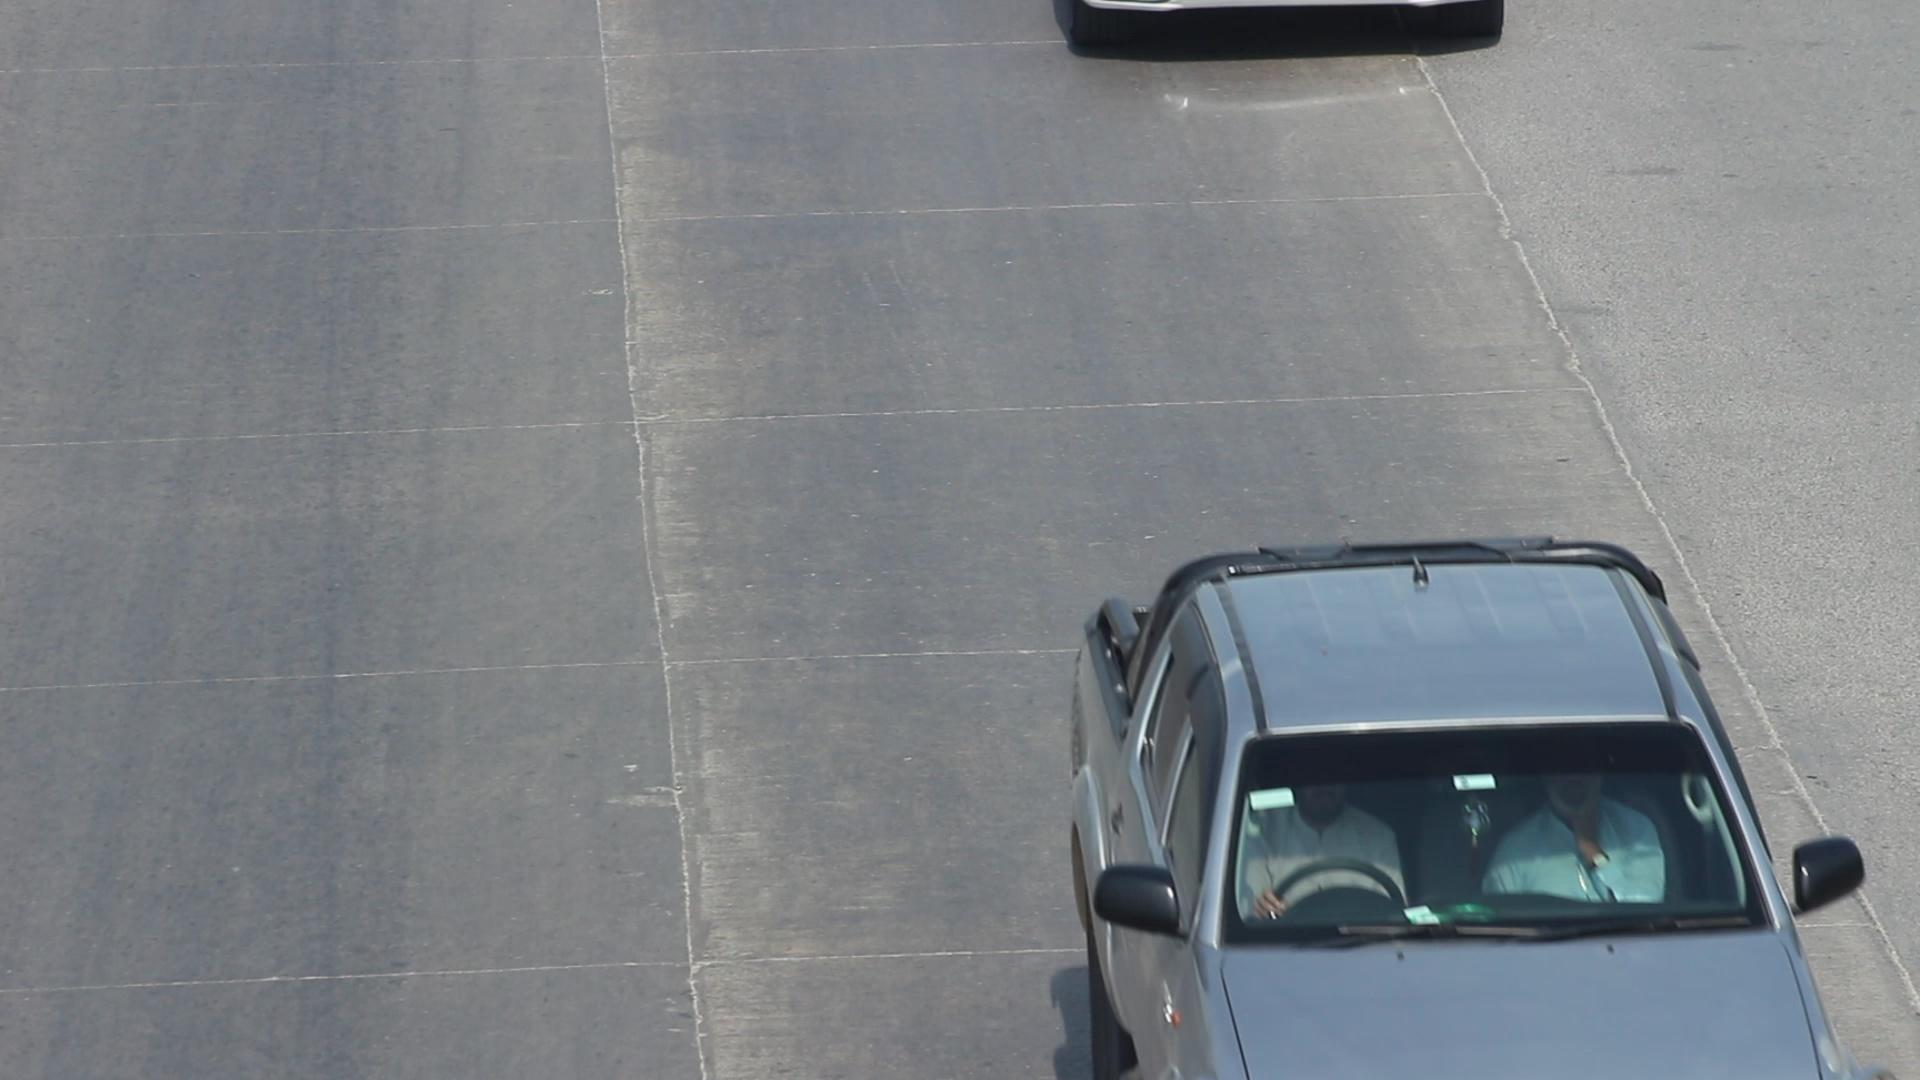windshield: (1213, 690, 1804, 980)
